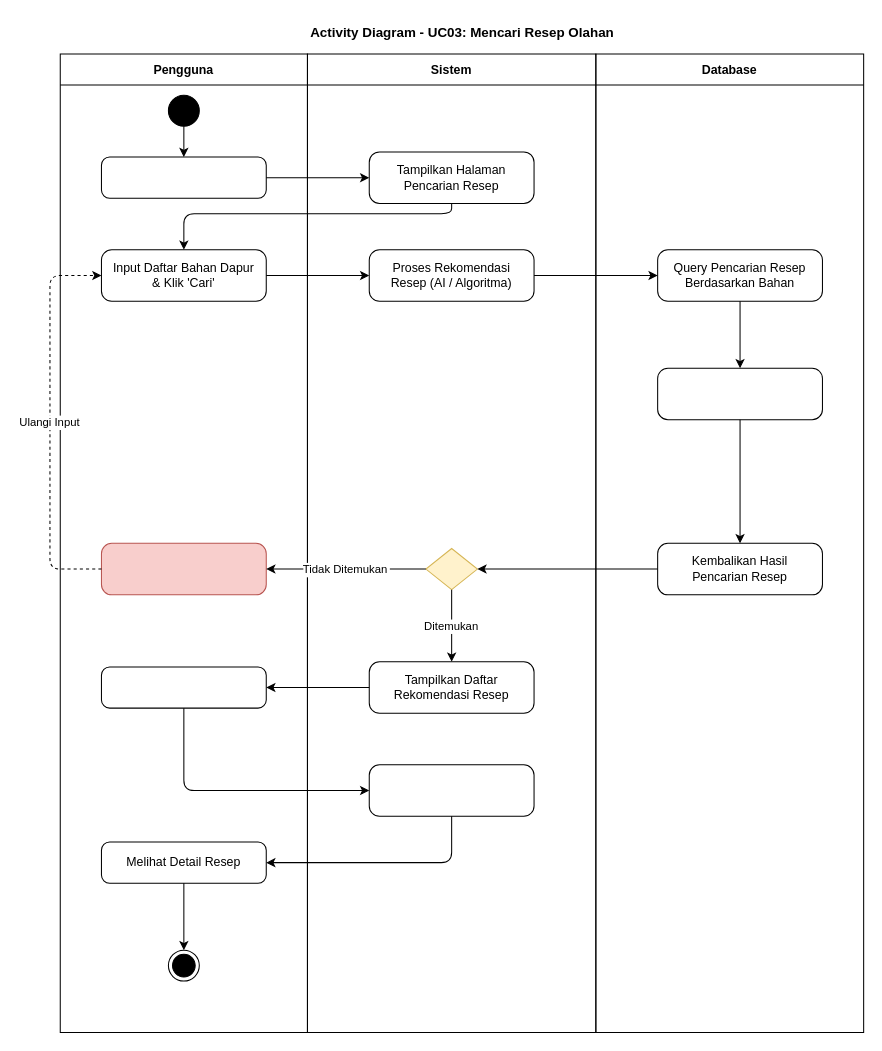
Image size: 882x1051. Some labels were removed from this diagram. Here are the shapes that lost their labels. From the top down, the centre of each, then its label:
[183,177]: Pilih Menu Cari Resep
[739,393]: Cek Kesesuaian Data Resep
[183,568]: Tampilkan Pesan 'Resep Tidak Ditemukan'
[183,687]: Pilih Salah Satu Resep
[451,790]: Tampilkan Detail Resep, Bahan & Cara Masak
